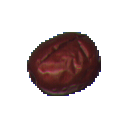ng: (22, 28, 109, 102)
